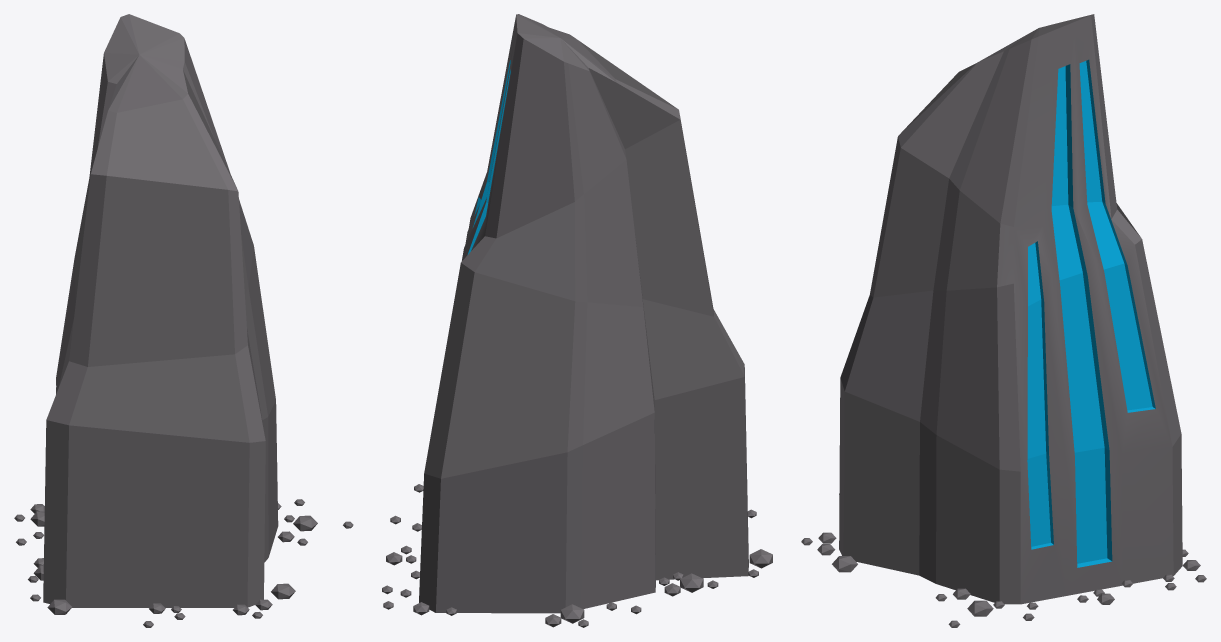
The model's file is rune_large.fbx.
3 views of the same model, side by side, from view 1: azimuth 30°, elevation 25°; view 2: azimuth 150°, elevation 25°; view 3: azimuth 270°, elevation 25° (orthographic). The views are drawn at different scales.
Visible parts, largest first — view 1: pPlatonic99; view 2: pPlatonic99; view 3: pPlatonic99.
Boxes of the visible parts, <box> form: pPlatonic99: <box>14,14,353,627</box>; pPlatonic99: <box>382,14,772,627</box>; pPlatonic99: <box>801,14,1206,627</box>.
Bounding box in the file's own units: 2.3 × 3.52 × 2.41.
